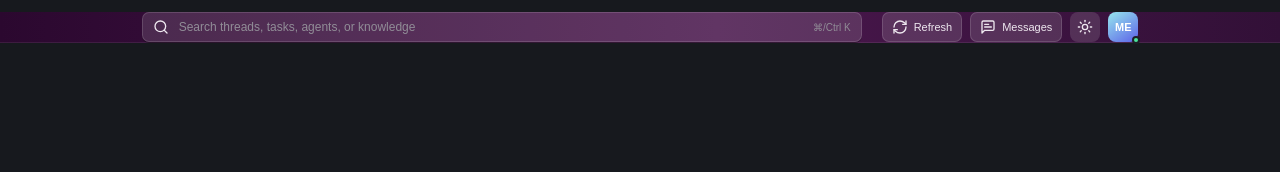
Scenario: Global search › dismisses without clearing the query and reopens with arrows or Ctrl+K
Type "Alpha" into the dropdown. click: (491, 27)
box: left=177, top=13, right=805, bottom=41
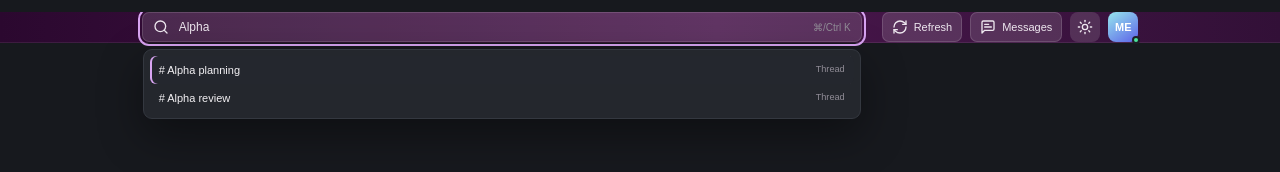
Press Escape Enter
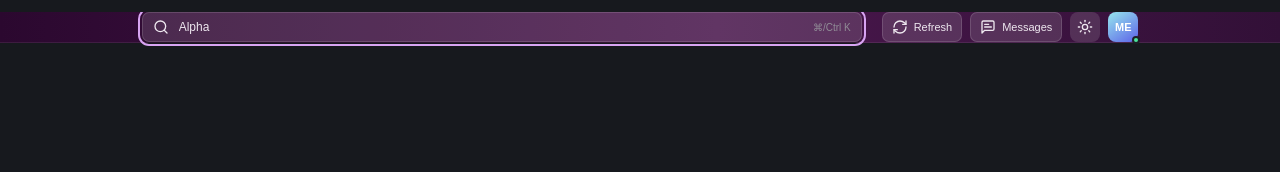
Press Arrowup
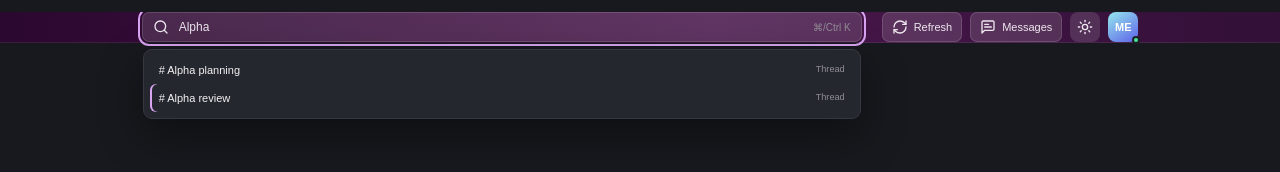
Check: the option "# Alpha review Thread" is selected, box left=150, top=84, right=854, bottom=112
Press Escape
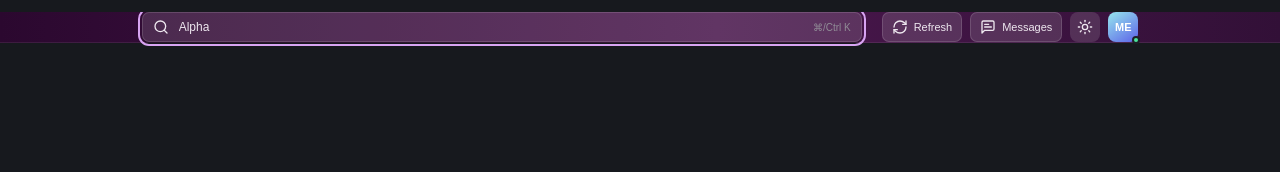
Click the button named "Switch to light theme". click: (1085, 27)
box: left=1070, top=12, right=1100, bottom=42
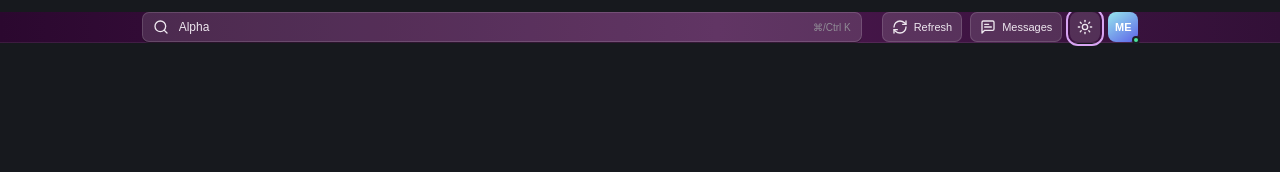
Type keys "{Control>}k{/Control}"
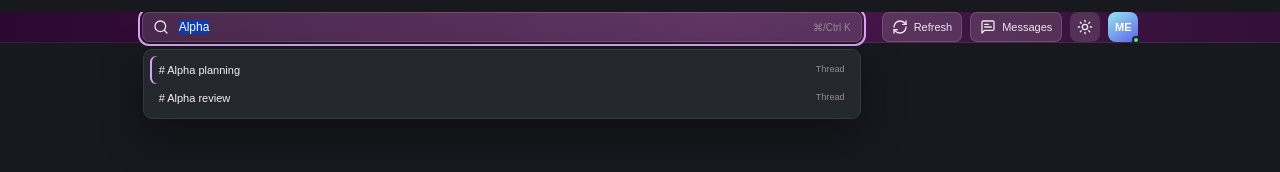
Check: the dropdown is expanded, box left=177, top=13, right=805, bottom=41
